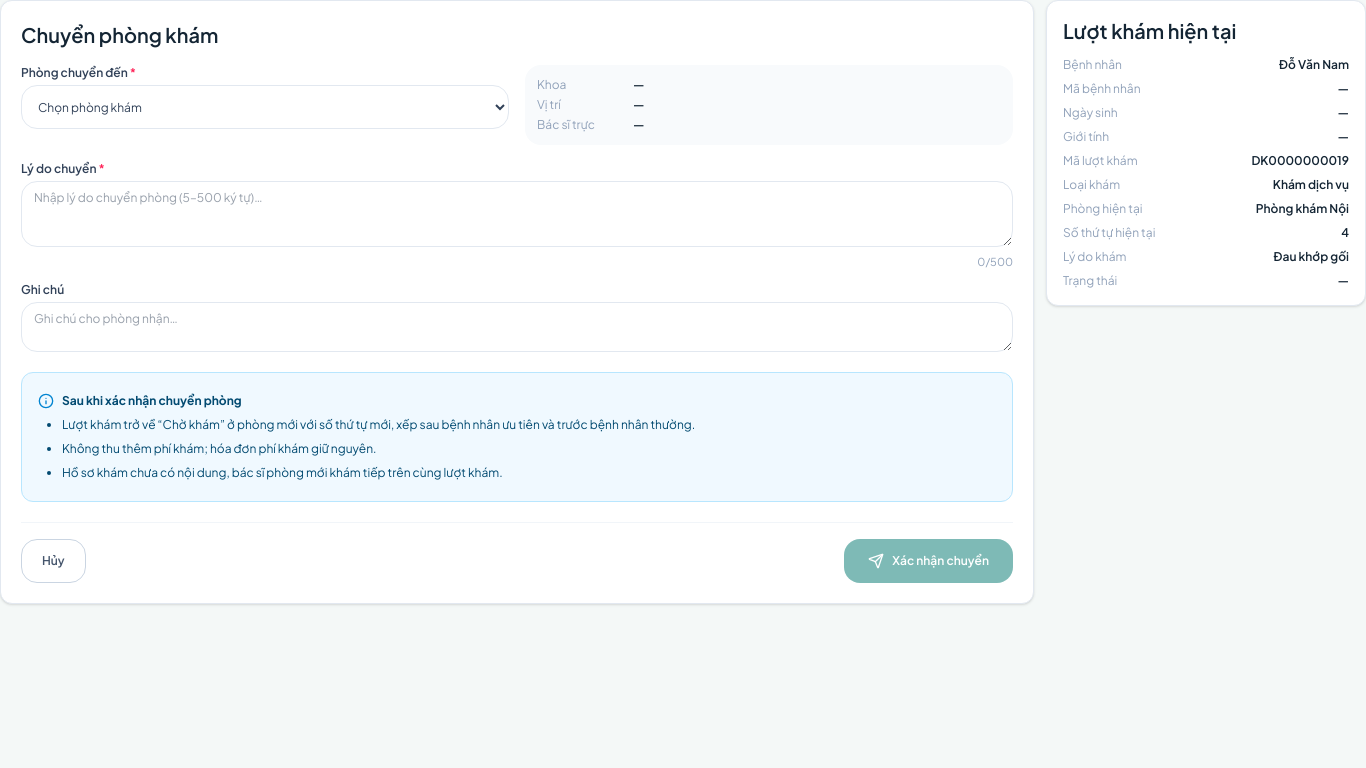
TransferRoomPanel › stops when the examination was saved in the meantime (EF-01)
The image size is (1366, 768).
Select "PK-NGOAI - Phòng khám Ngoại" in the dropdown labelled "Phòng chuyển đến *" at (265,107), box [21,85,509,129]
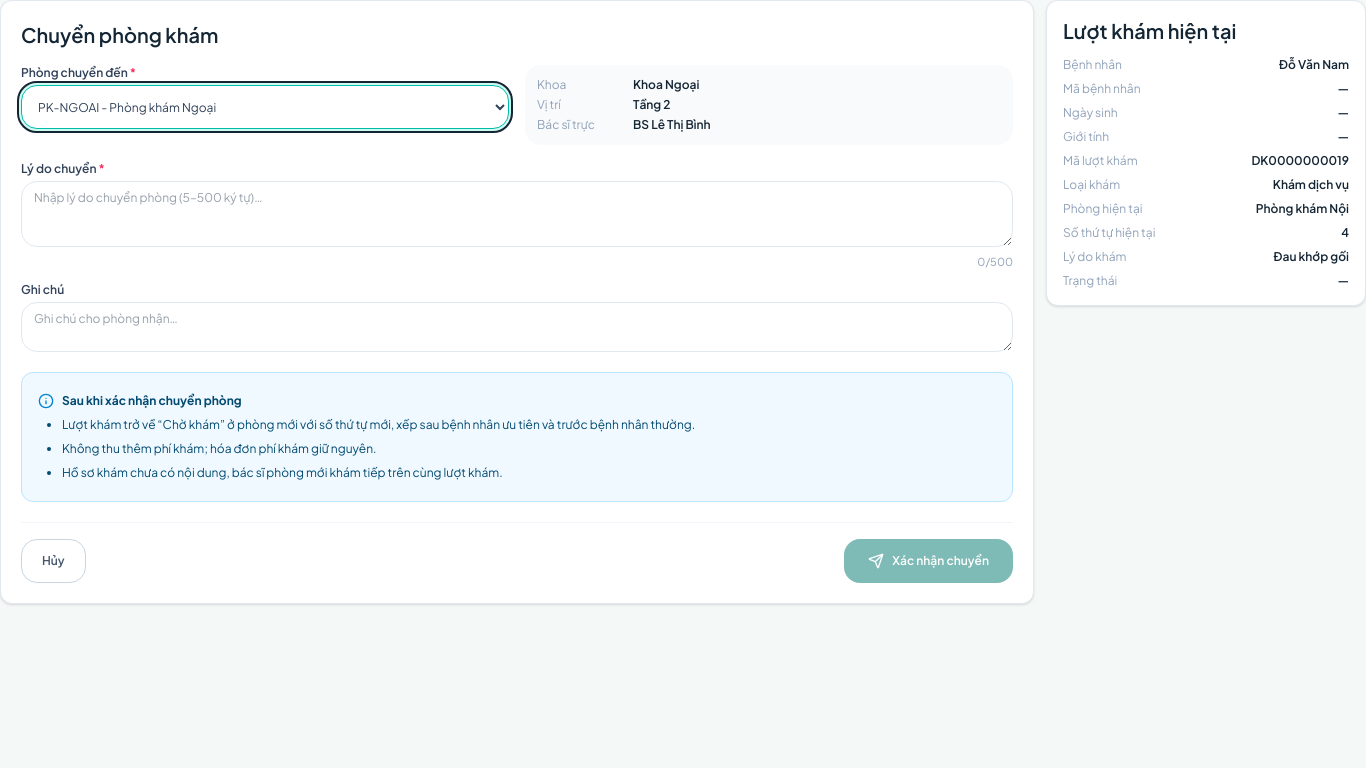
Type "Cần khám chuyên khoa Ngoại" into the text box labelled "Lý do chuyển * 0/500".
click(517, 214); type("Cần khám chuyên khoa Ngoại")  # box [21,181,1013,247]
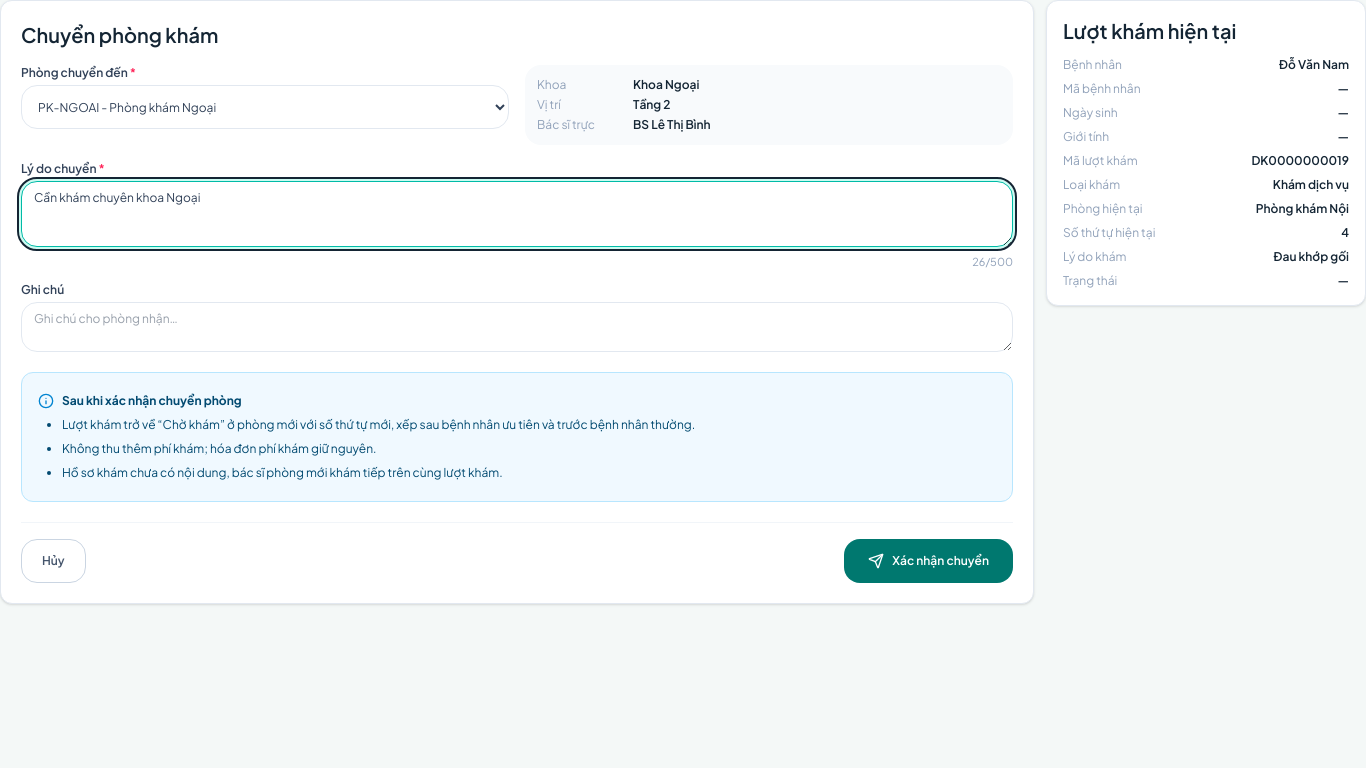
Click the button "Xác nhận chuyển".
click(929, 561)  # box [844,539,1013,583]
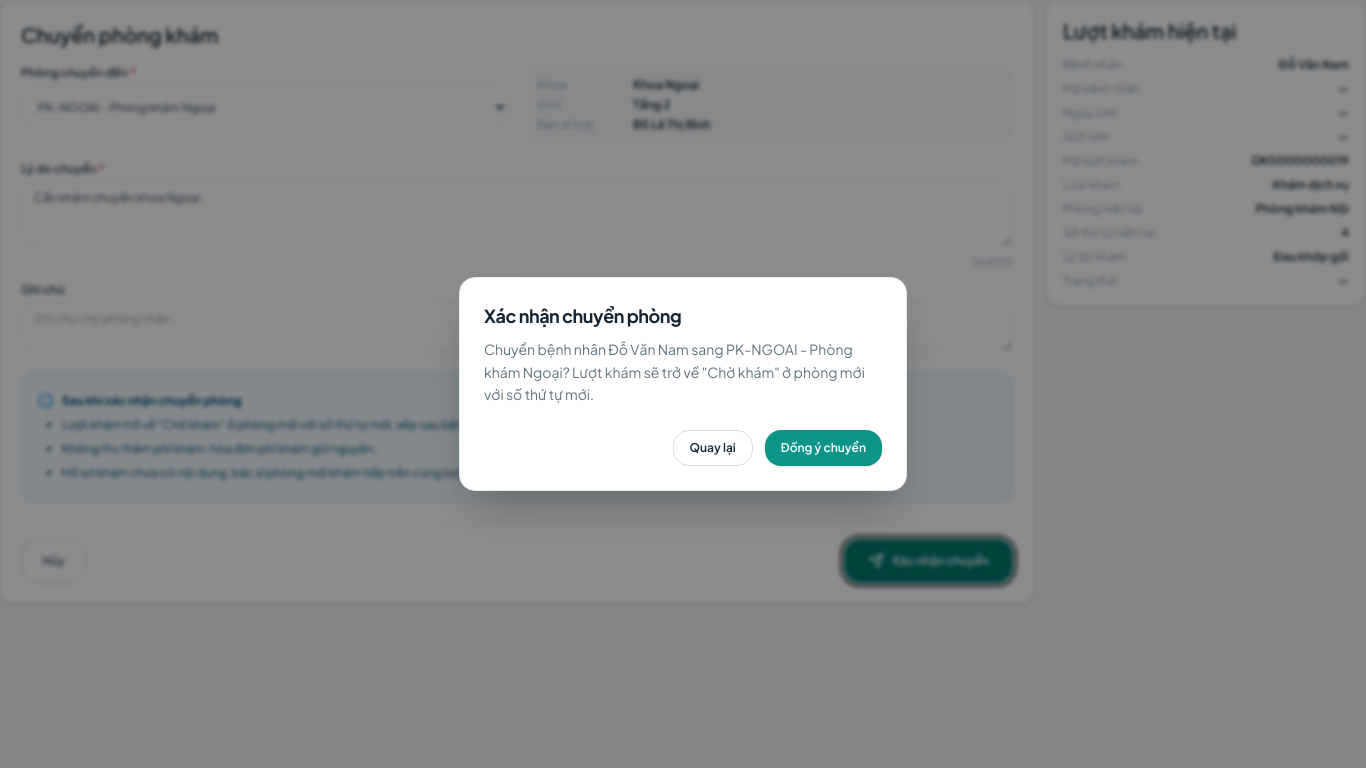
Click the button "Đồng ý chuyển".
click(823, 448)  # box [765,430,882,466]
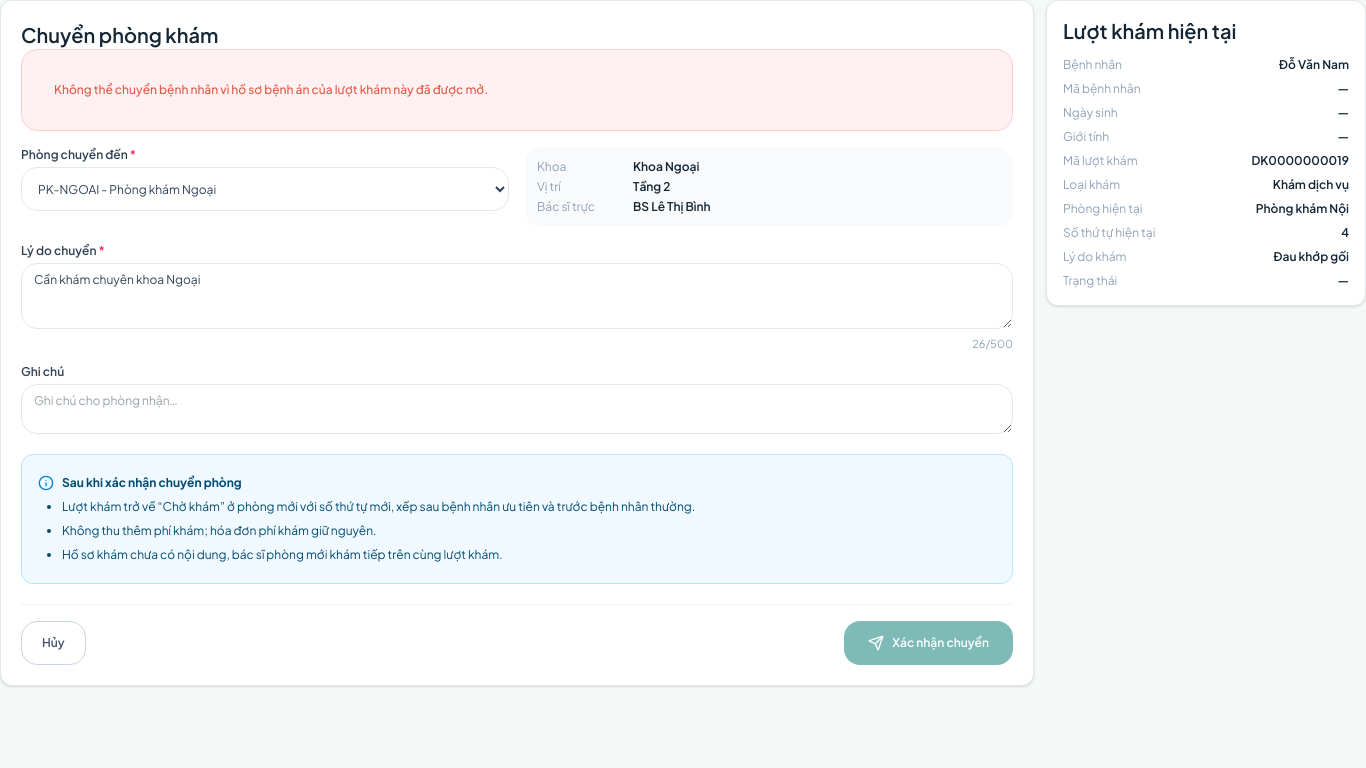
Expected: the message reads "Không thể chuyển bệnh nhân vì hồ sơ bệnh án của lượt khám này đã được mở.", [54,82,488,97]
Expected: the button "Xác nhận chuyển" is disabled, [844,621,1013,665]
